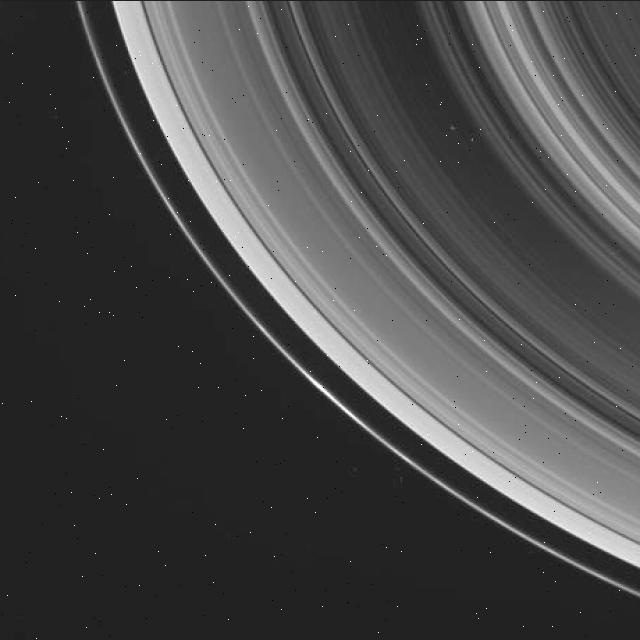Saturn: (66, 0, 640, 605)
